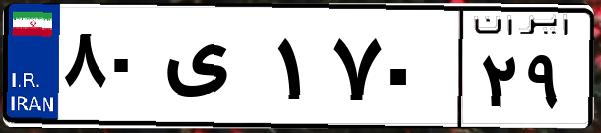0: (385, 28, 445, 110), (110, 28, 158, 98)
1: (270, 28, 330, 110)
2: (475, 38, 525, 113)
7: (330, 28, 385, 110)
8: (57, 26, 110, 100)
9: (525, 38, 570, 115)
ی: (158, 20, 270, 120)
